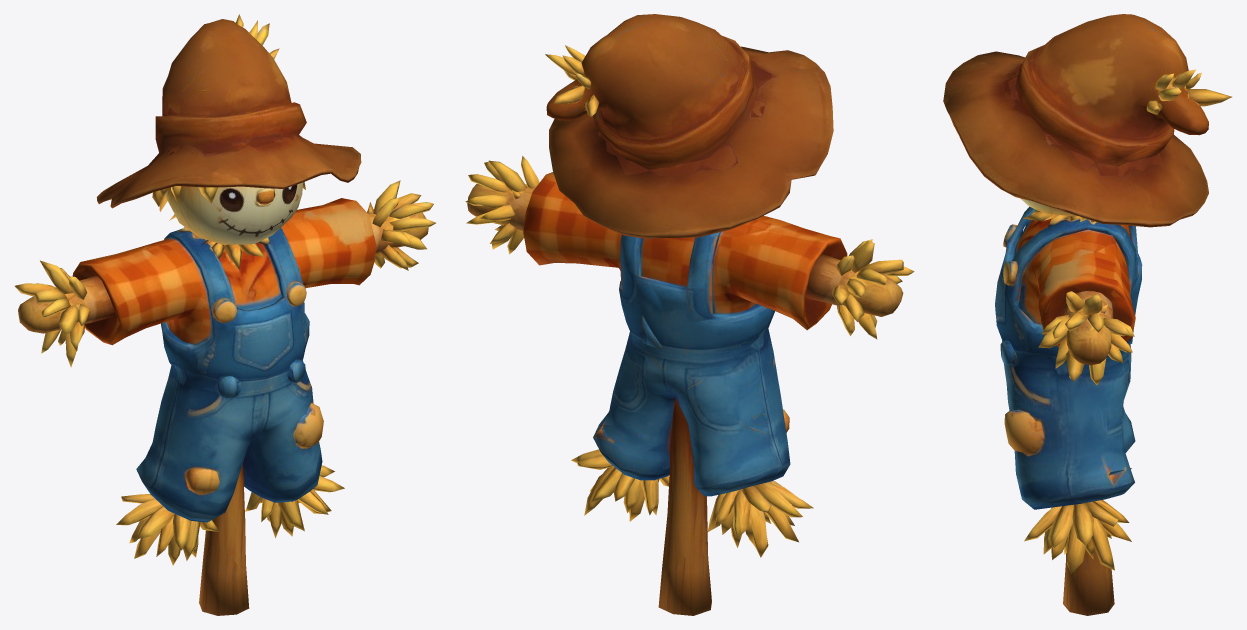
Rendered from scarecrow.glb.
The picture shows the model from 3 angles, left to right: view 1: azimuth 30°, elevation 25°; view 2: azimuth 150°, elevation 25°; view 3: azimuth 270°, elevation 25°; orthographic projection. The views are drawn at different scales.
Bounding box in the file's own units: 0.7578 × 1 × 0.4434.
Materials: 1 (1 with a texture image).
